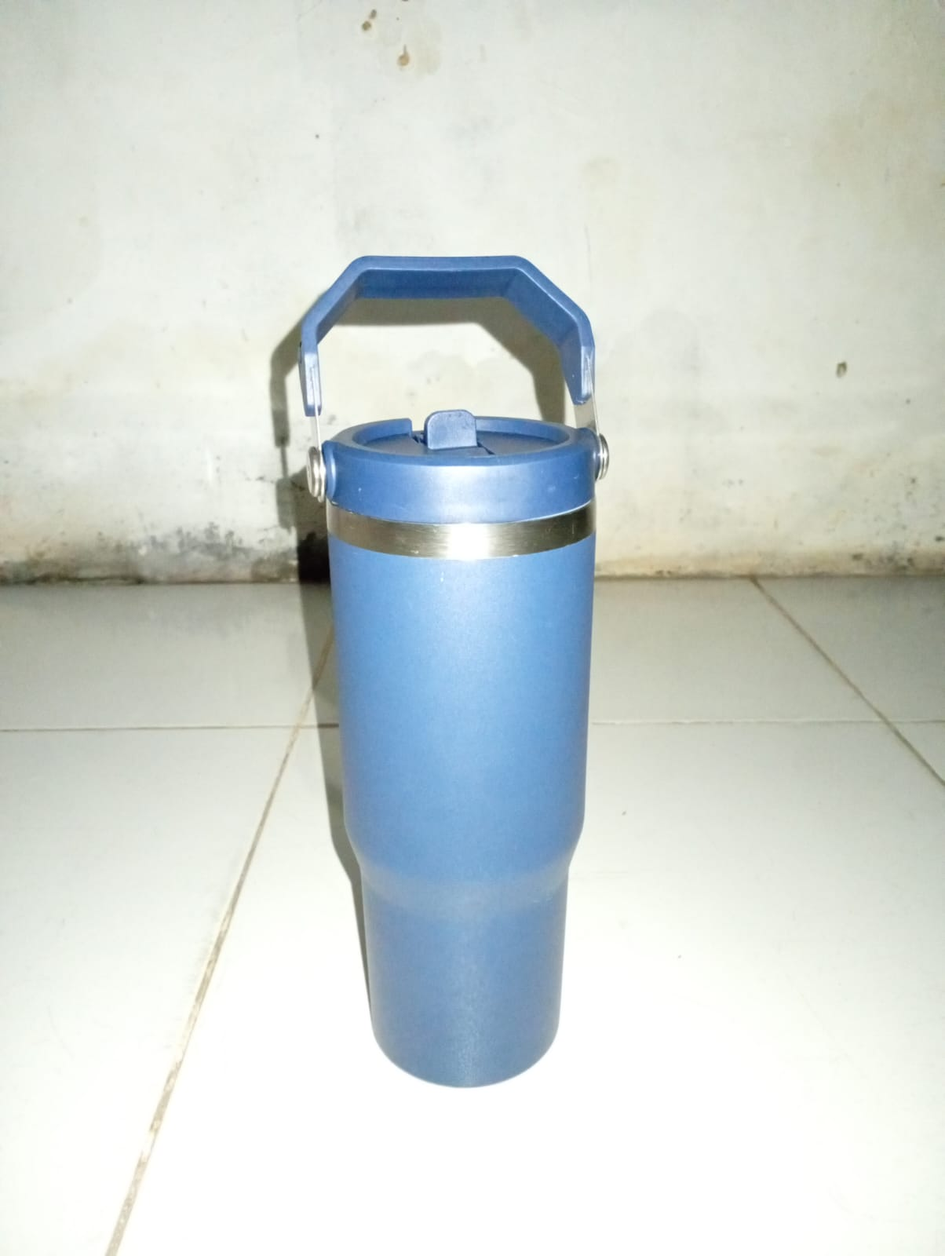Tupperware: (228, 218, 637, 1096)
